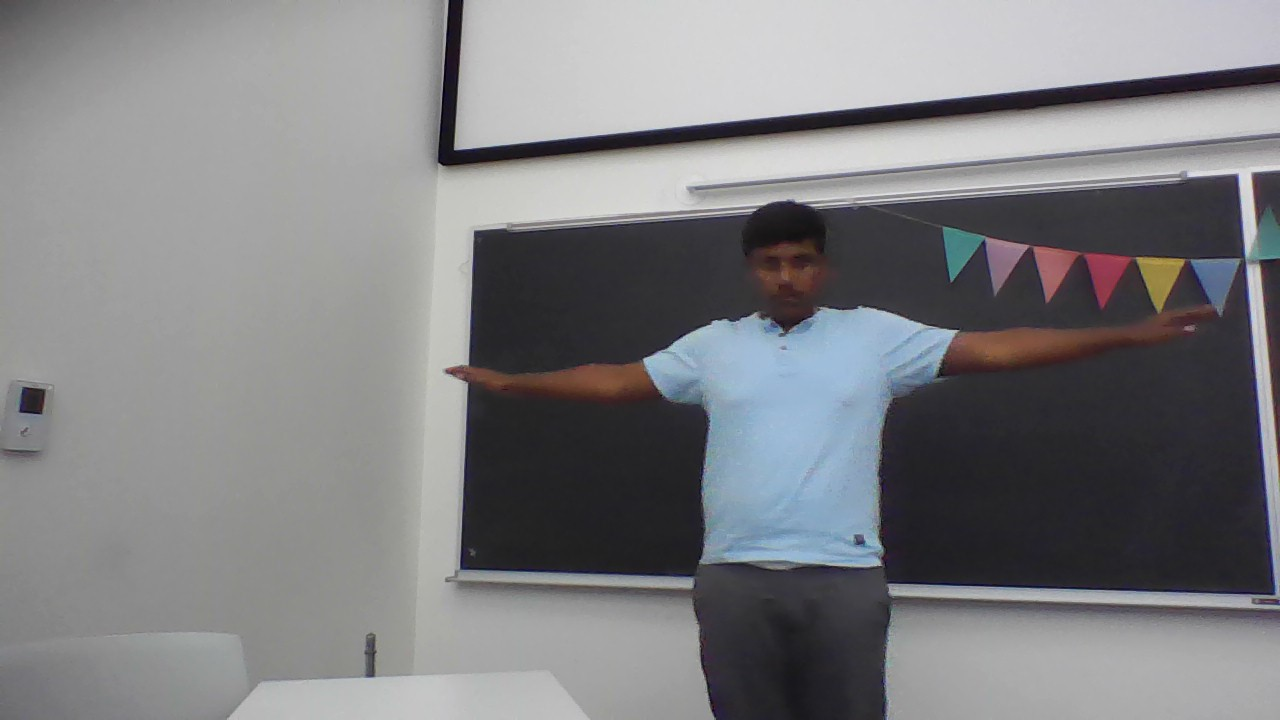height_frame: (643, 198, 940, 720)
hip_frame: (708, 541, 883, 584)
shoulder_frame: (698, 326, 920, 362)
waist_frame: (706, 451, 882, 484)
